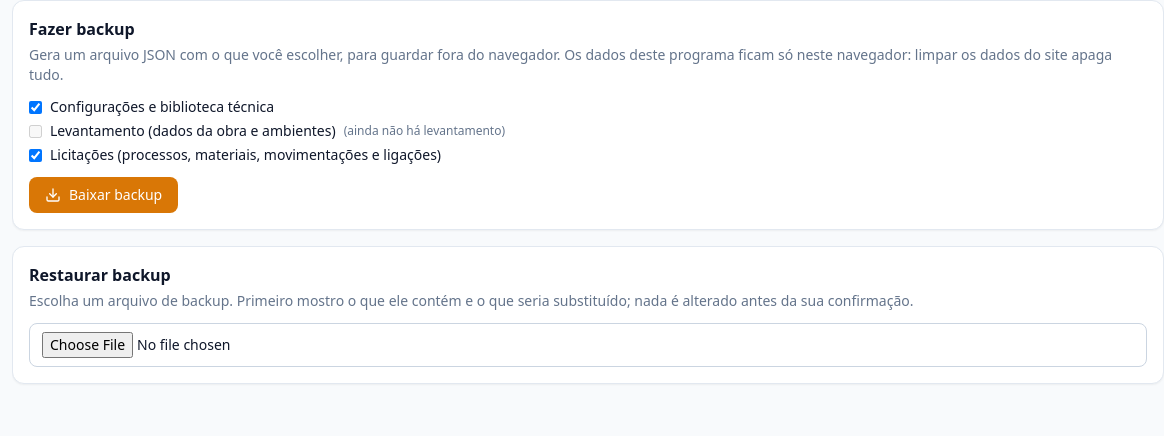
fazer backup › só as partes marcadas entram; sem levantamento a opção fica desabilitada
This screenshot has width=1164, height=436.
Expected: the checkbox labelled "Levantamento (dados da obra e ambientes)" is disabled, [29,124,42,138]
Expected: the checkbox labelled "Levantamento (dados da obra e ambientes)" is not checked, [29,124,42,138]
Click the checkbox labelled "Licitações (processos, materiais, movimentações e ligações)".
click(36, 155)  # box [29,148,42,162]
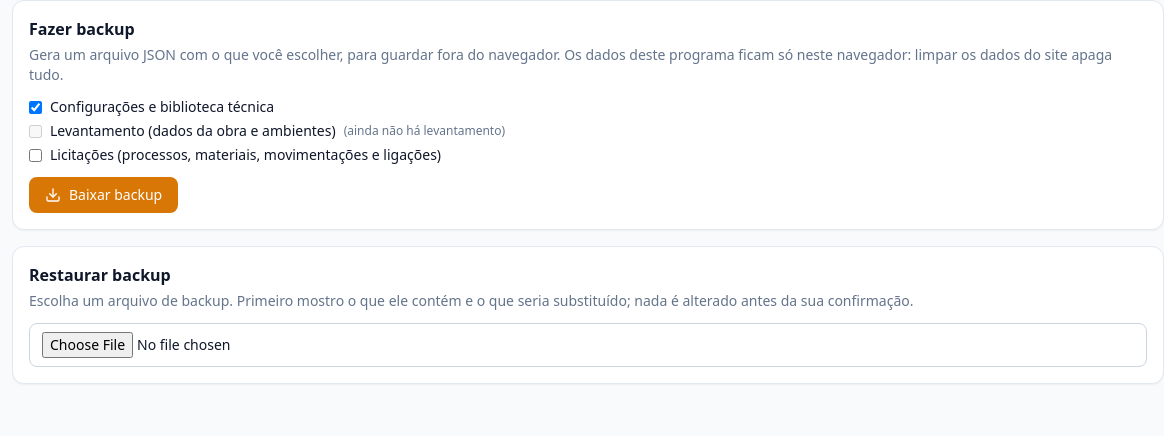
Click the button "Baixar backup".
click(104, 195)  # box [29,177,178,213]
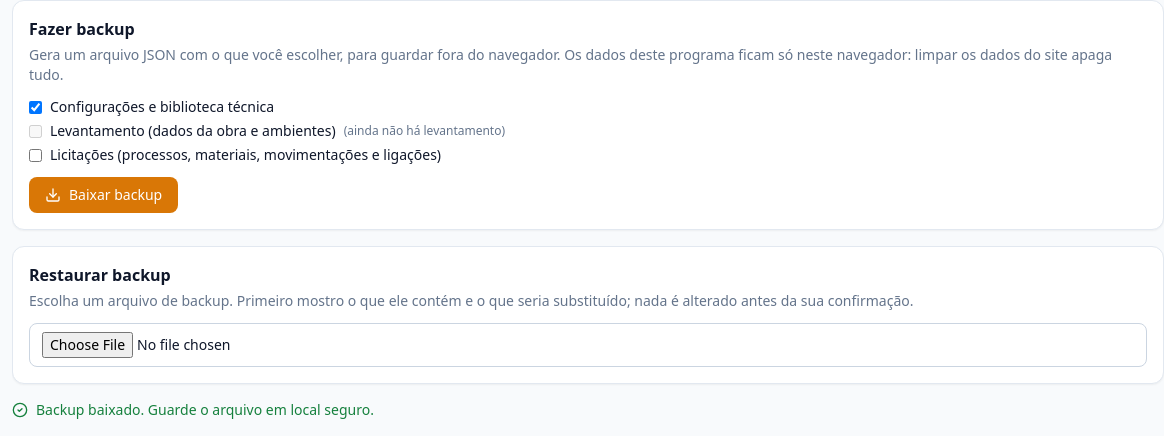
Expected: the text "Backup baixado. Guarde o arquivo em local seguro." is shown, [12,400,374,419]
